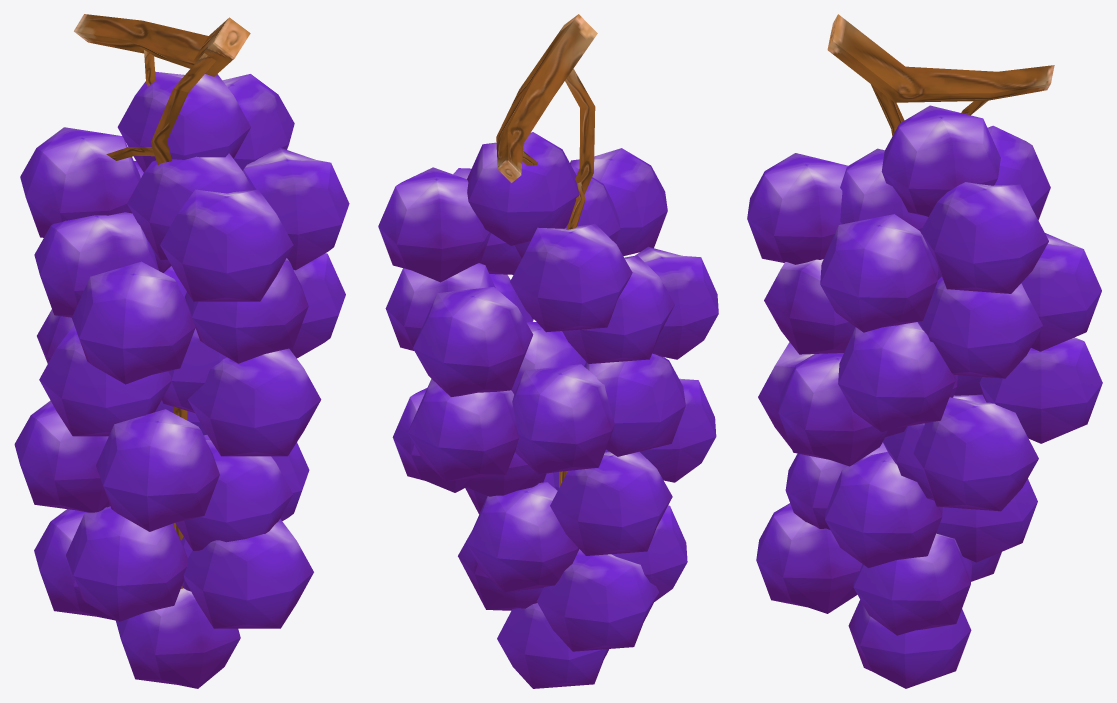
Rendered from grape.gltf.
The picture shows the model from 3 angles, left to right: view 1: azimuth 30°, elevation 25°; view 2: azimuth 150°, elevation 25°; view 3: azimuth 270°, elevation 25°; orthographic projection. The views are drawn at different scales.
Visible parts, largest first — view 1: fruis_and_vegetables.029; view 2: fruis_and_vegetables.029; view 3: fruis_and_vegetables.029.
Boxes of the visible parts, x1,y1,x2,y2 form: fruis_and_vegetables.029: [14, 14, 349, 688]; fruis_and_vegetables.029: [378, 14, 718, 688]; fruis_and_vegetables.029: [747, 14, 1102, 688].
Bounding box in the file's own units: 0.1042 × 0.2393 × 0.1141.
1 material, 1 textured.
